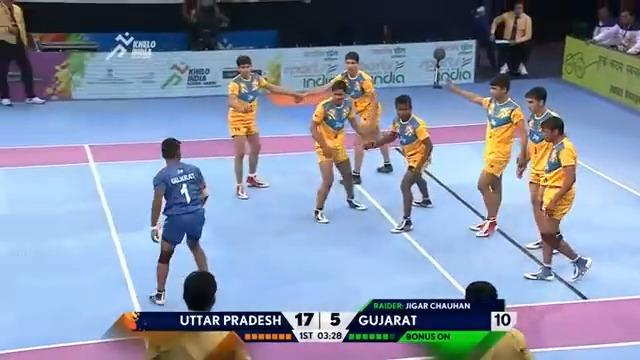Player: (444, 73, 528, 237), (295, 50, 396, 185), (225, 54, 307, 199), (522, 115, 592, 282), (361, 93, 434, 233), (309, 78, 370, 223), (522, 85, 562, 249), (0, 0, 46, 105)
Raider: (148, 137, 210, 305)
referee: (488, 1, 533, 76), (182, 0, 230, 50), (470, 4, 498, 72)
